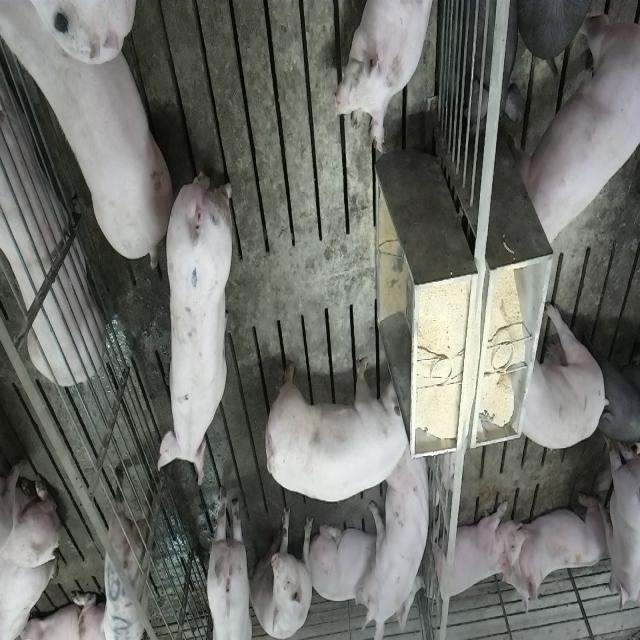Feeding: (270, 352, 414, 499)
Sitting: (358, 454, 432, 640), (251, 508, 315, 640)
Standing: (518, 9, 638, 250), (158, 159, 234, 489), (512, 297, 608, 447), (100, 472, 157, 639), (204, 487, 252, 638), (607, 437, 640, 615), (598, 328, 640, 450)
Sternal_lying: (0, 64, 102, 392), (333, 0, 438, 158), (503, 494, 610, 620), (426, 502, 520, 610), (310, 518, 379, 614)
